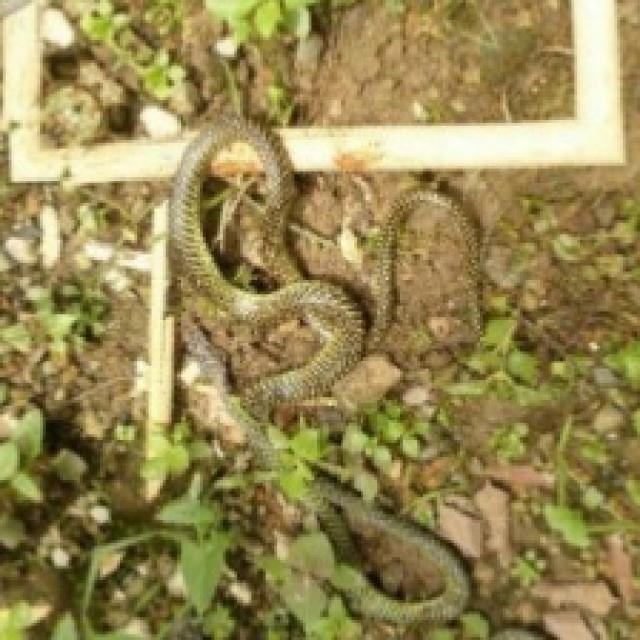paradise tree snake: (169, 117, 466, 637), (423, 194, 477, 351)
